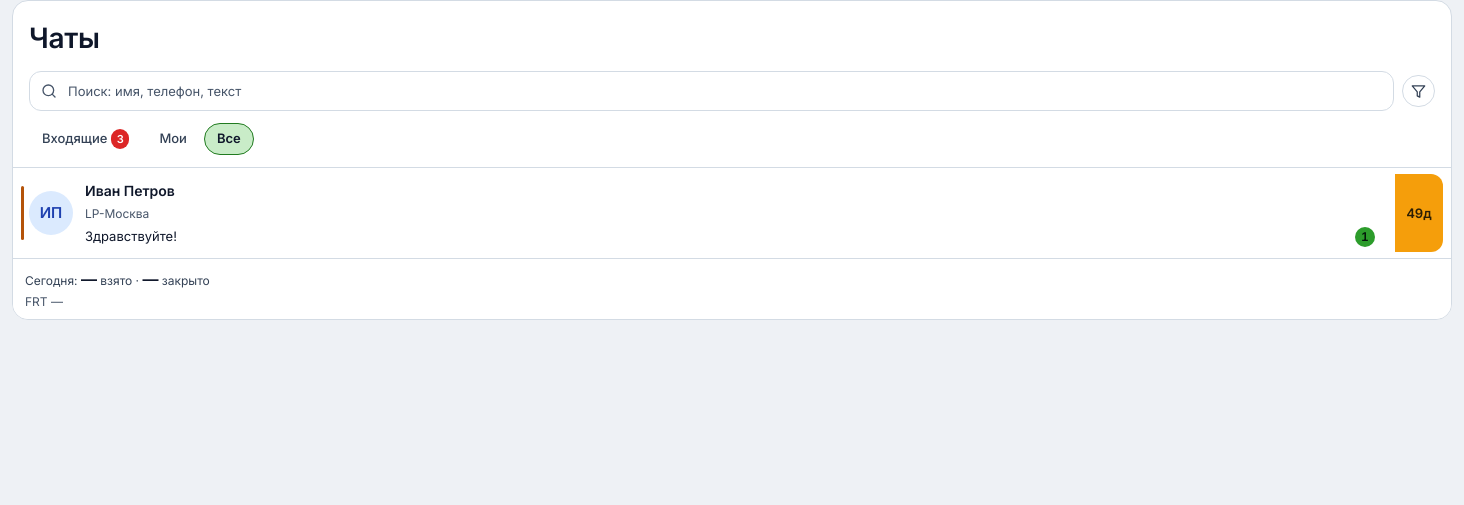
Test: Вкладка «Входящие» › клик по «Входящие» показывает очередь, возврат на «Мои» — обычный список
The width and height of the screenshot is (1464, 505).
Expected: the text "Иван Петров" is shown, [85,182,175,198]
Click the tab "Входящие 3": [86, 139] box [29,123,142,155]
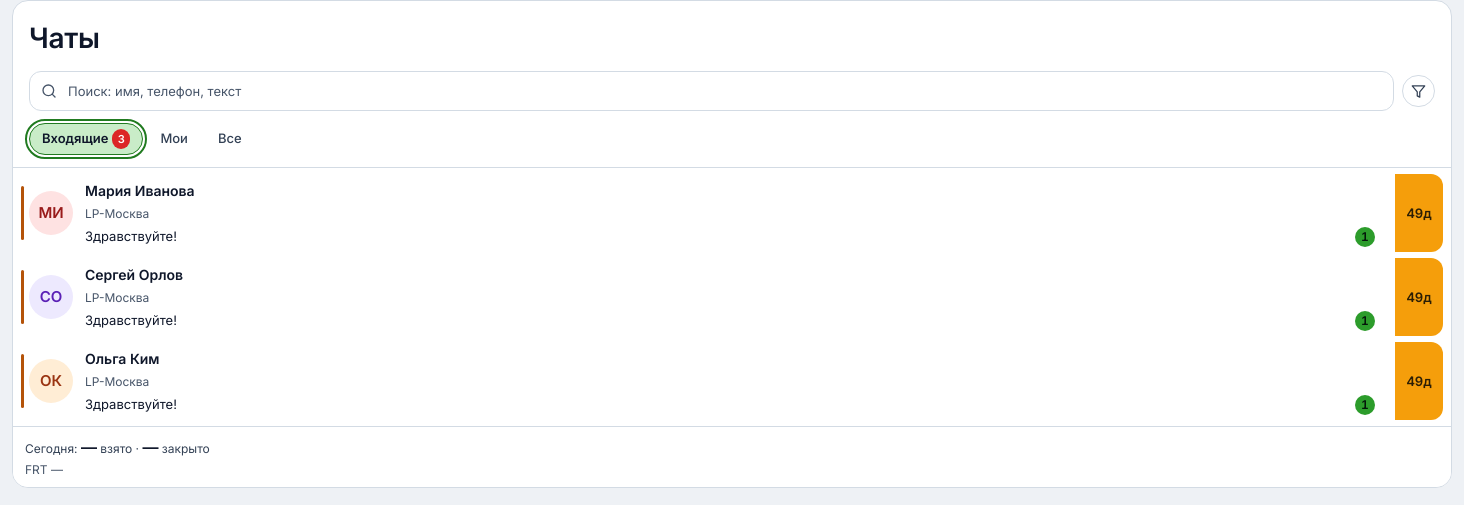
Expected: the text "Мария Иванова" is shown, [85,182,195,198]
Expected: the button "Иван Петров" is gone
Click the tab "Мои": [174, 139] box [147,123,201,155]
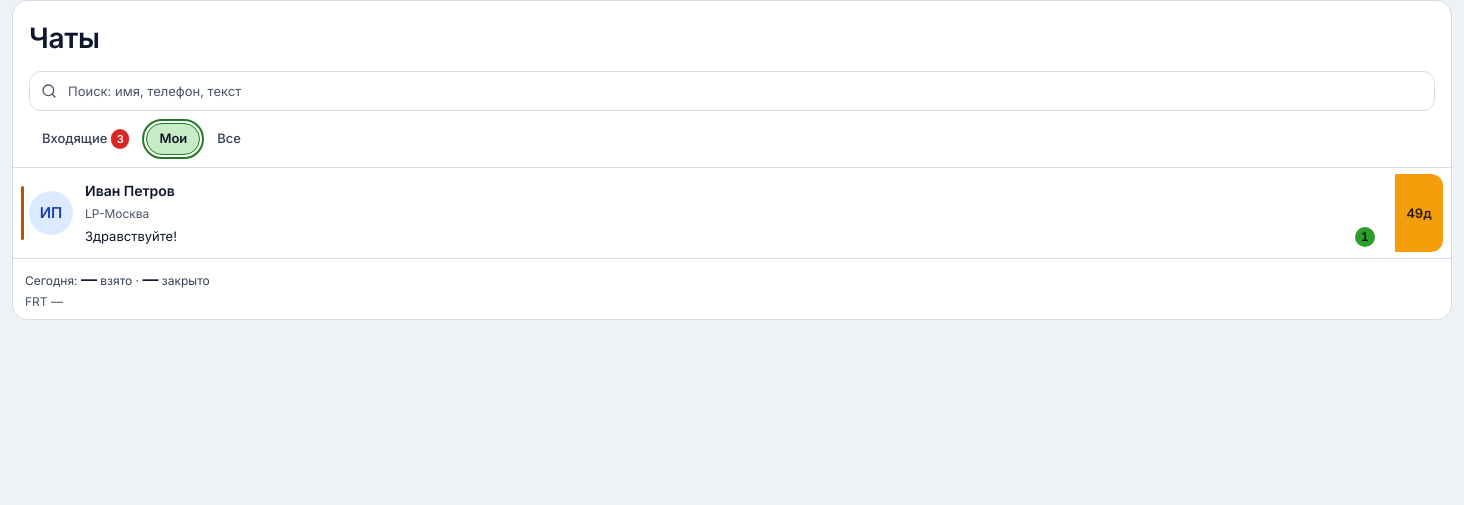
Expected: the text "Иван Петров" is shown, [85,182,175,198]
